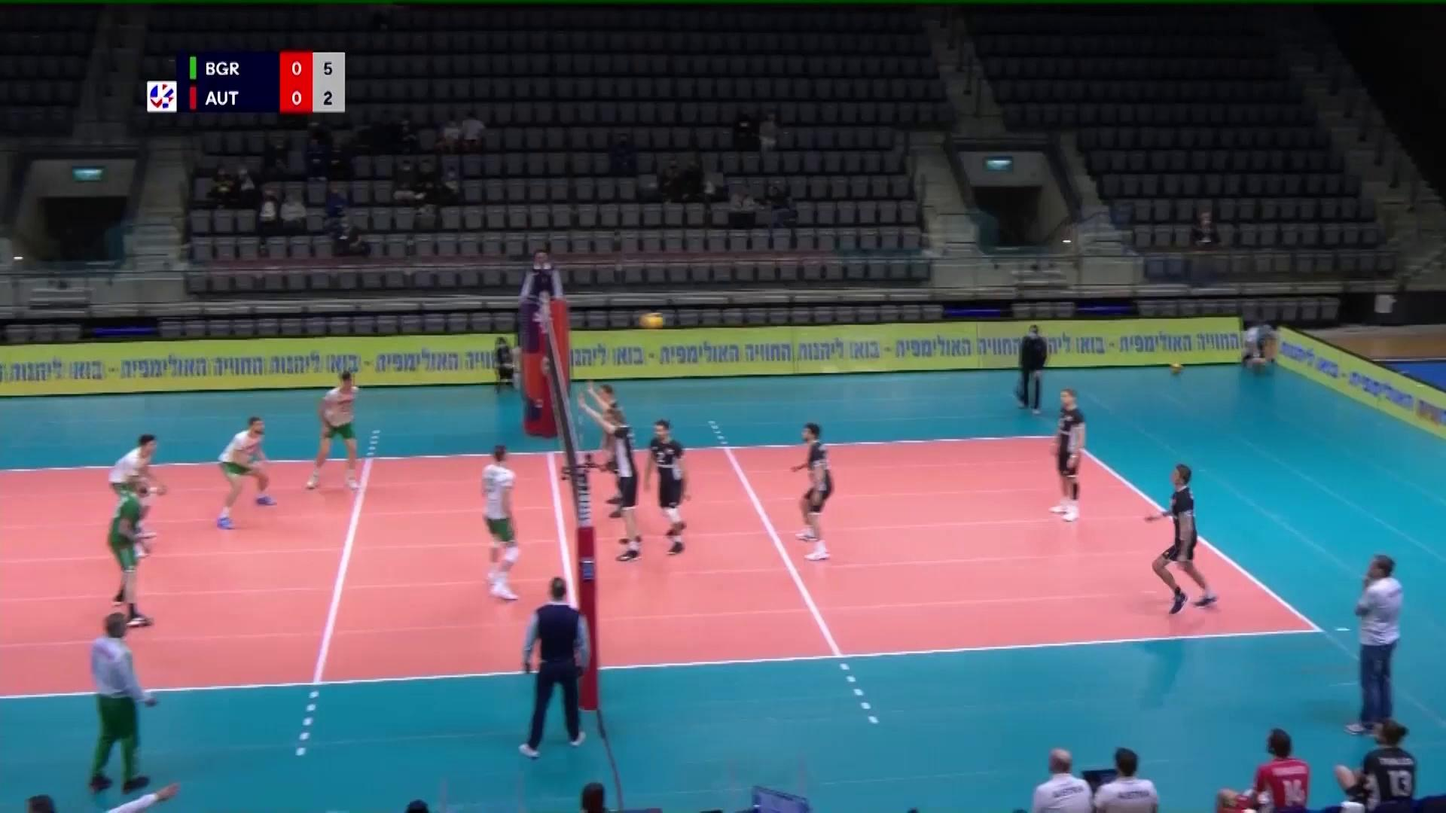ball: (640, 313, 664, 327)
